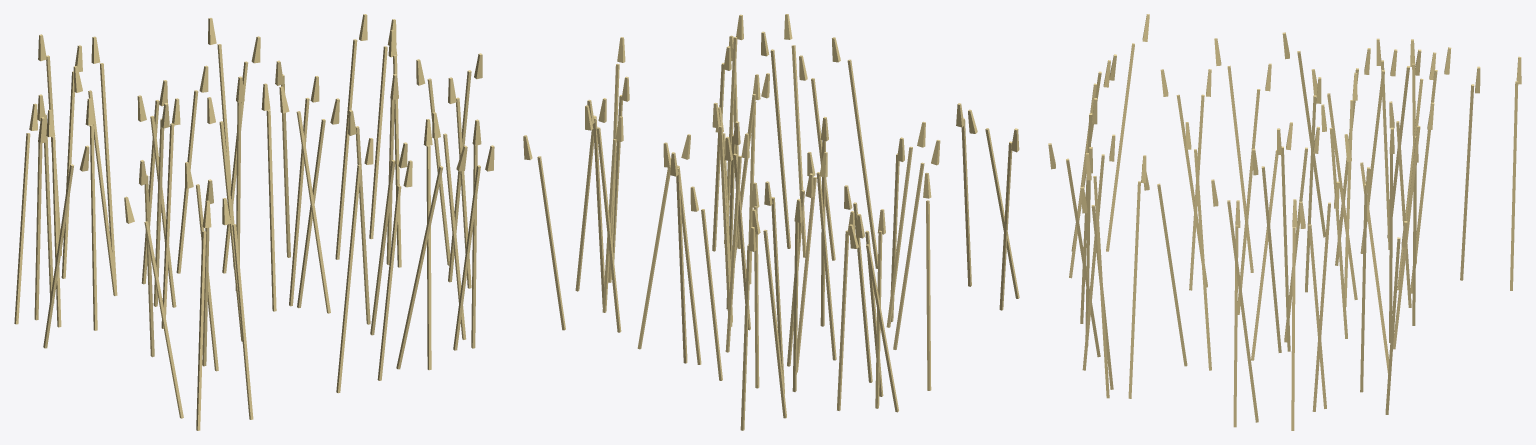
Rendered from Uprawa_Pszenica_1.fbx.
3 views of the same model, side by side, from view 1: azimuth 30°, elevation 25°; view 2: azimuth 150°, elevation 25°; view 3: azimuth 270°, elevation 25° (orthographic). The views are drawn at different scales.
Visible parts, largest first — view 1: Uprawa_Pszenica_1; view 2: Uprawa_Pszenica_1; view 3: Uprawa_Pszenica_1.
Boxes of the visible parts, <box> form: Uprawa_Pszenica_1: <box>14,14,494,430</box>; Uprawa_Pszenica_1: <box>523,14,1019,430</box>; Uprawa_Pszenica_1: <box>1048,14,1521,430</box>.
Bounding box in the file's own units: 1.87 × 1.09 × 1.89.
